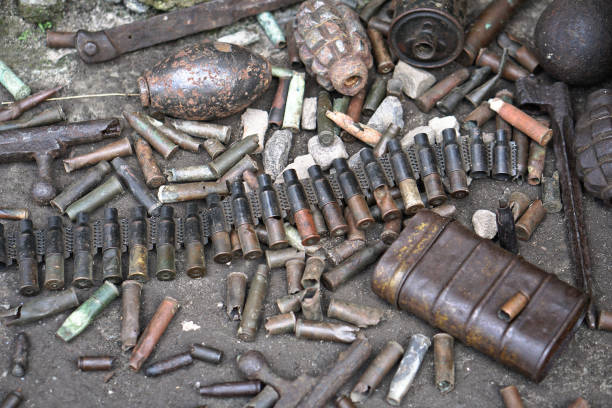e1: (128, 41, 268, 118), (291, 1, 376, 97)
